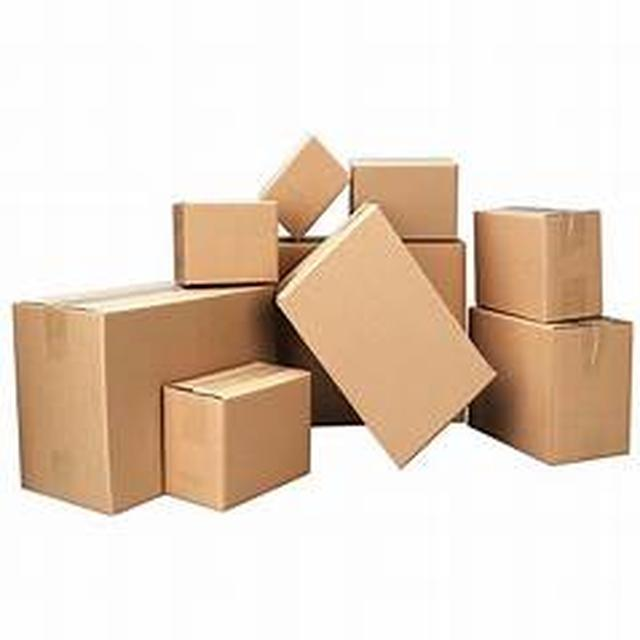box: (0, 98, 638, 535)
